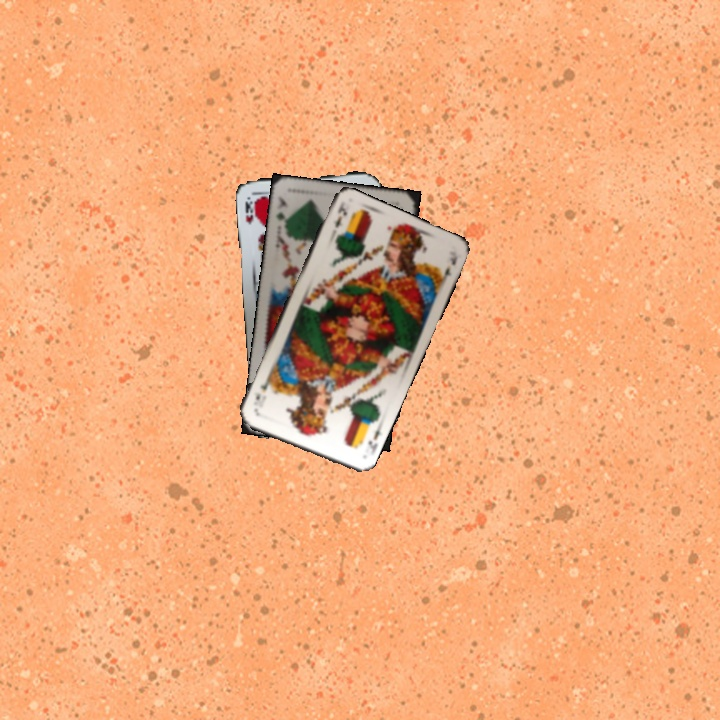EK: (364, 423, 384, 457), (331, 200, 349, 231)
GK: (272, 193, 291, 232)
HK: (241, 194, 260, 227)
